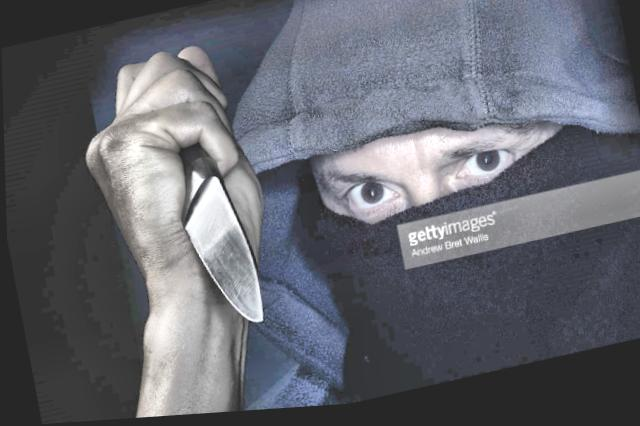knife: (108, 34, 276, 359)
